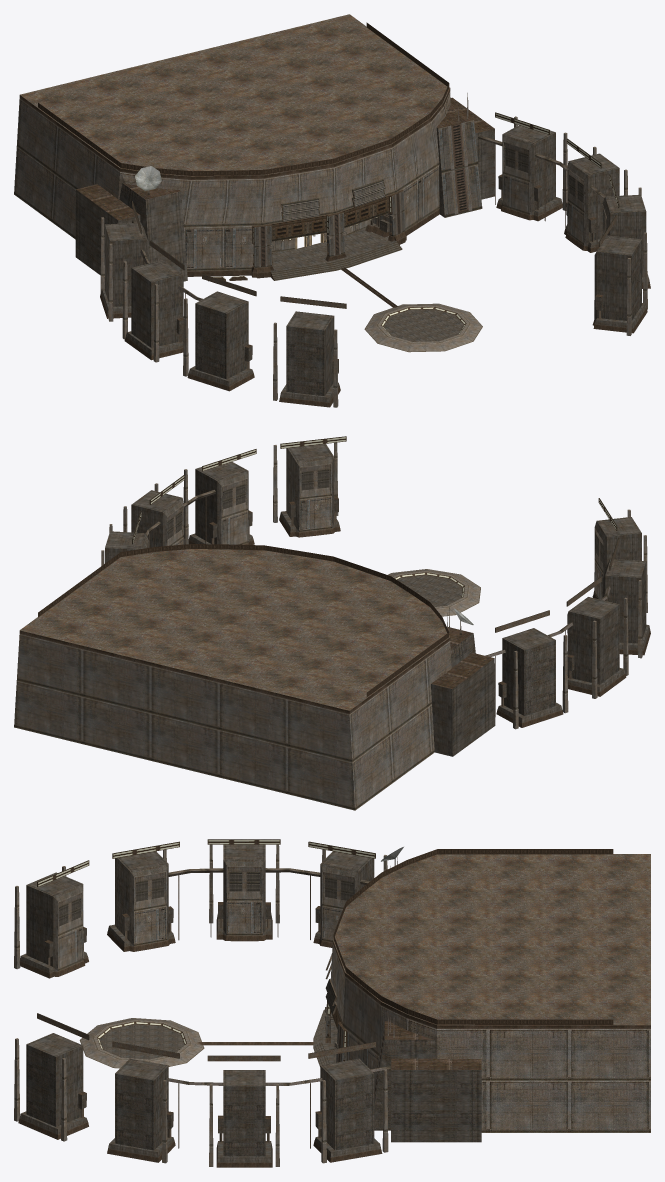
Rendered from thm_lok_nyms_stronghold_r0_mesh_l2.fbx.
The picture shows the model from 3 angles, top to bottom: view 1: azimuth 30°, elevation 25°; view 2: azimuth 150°, elevation 25°; view 3: azimuth 270°, elevation 25°; orthographic projection. The views are drawn at different scales.
Visible parts, largest first — view 1: mesh_node; view 2: mesh_node; view 3: mesh_node.
Boxes of the visible parts, x1,y1,x2,y2 form: mesh_node: [14, 14, 650, 407]; mesh_node: [14, 436, 650, 810]; mesh_node: [14, 839, 650, 1167].
Bounding box in the file's own units: 110 × 24.59 × 120.
